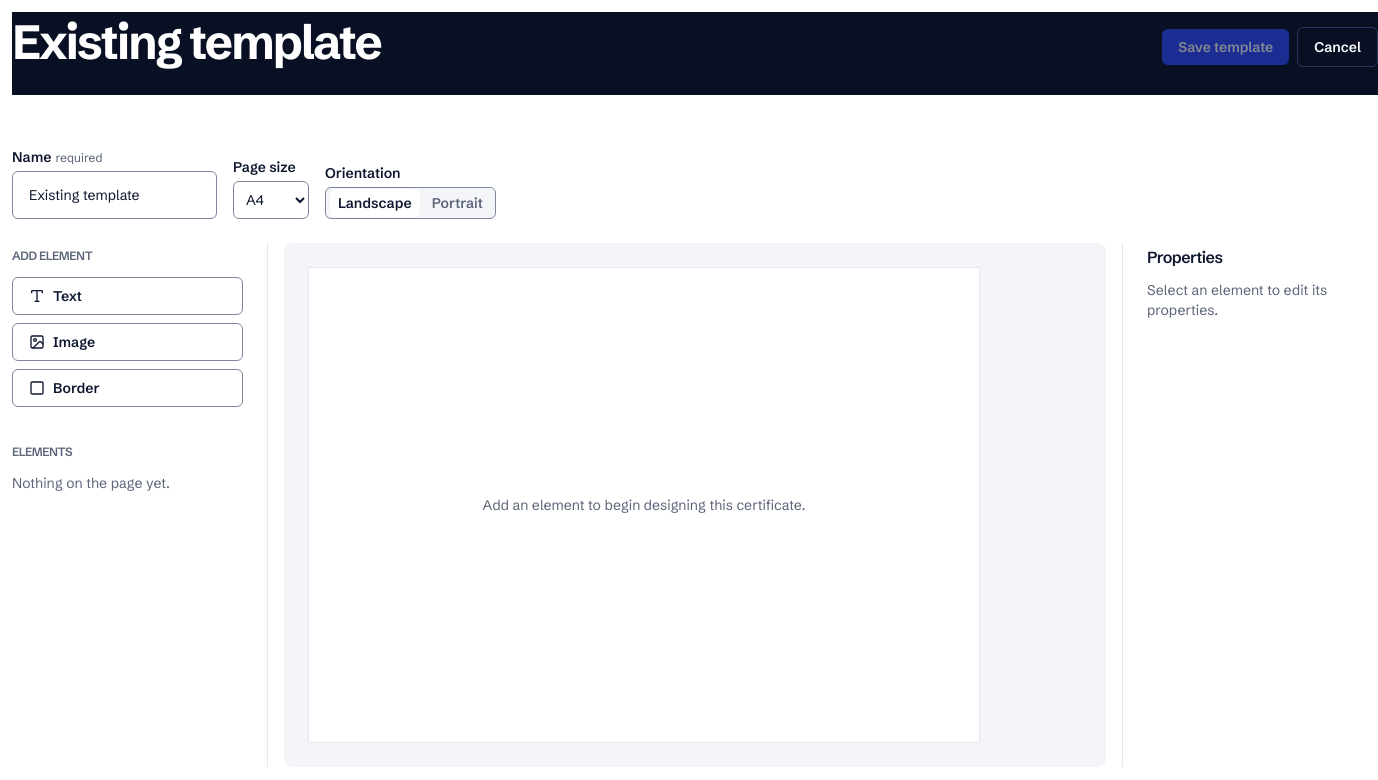
TemplateEditorShell › keeps Save template disabled until something changes, then enables it
Expected: the button "Save template" is disabled, [1162, 29, 1289, 65]
Replace the text in the field labelled "Name" with "Existing template v2". click: (114, 195)
box: [12, 171, 217, 219]
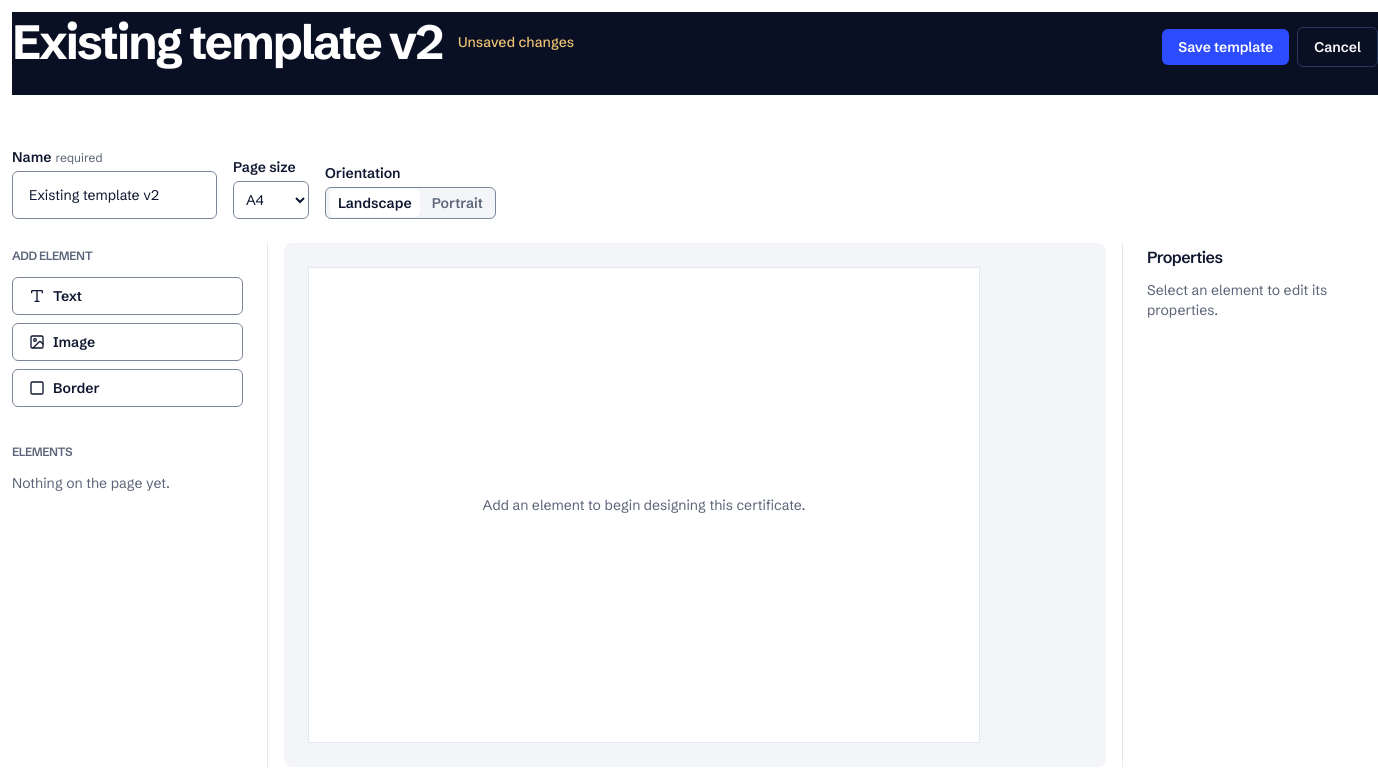
Result: the button "Save template" is enabled at [1162, 29, 1289, 65]
